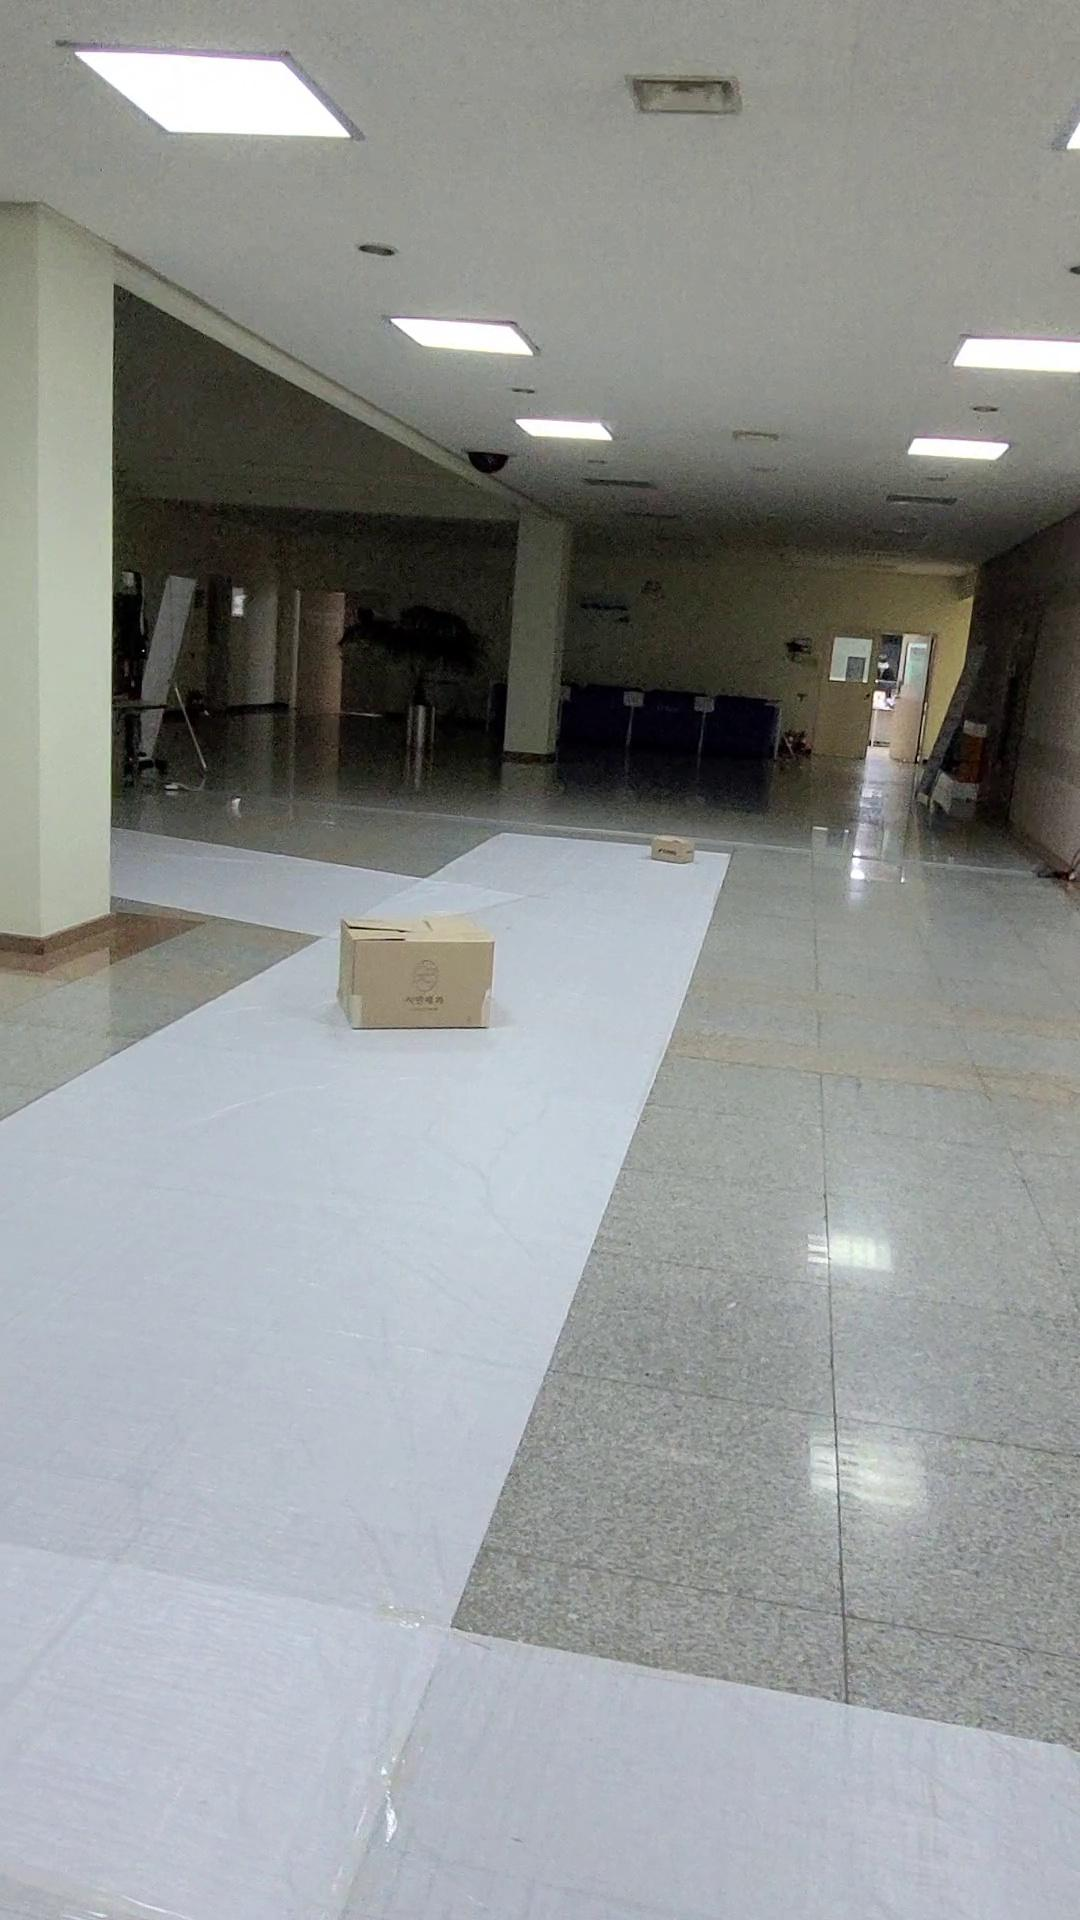Box: (318, 899, 512, 1036), (644, 825, 698, 865)
